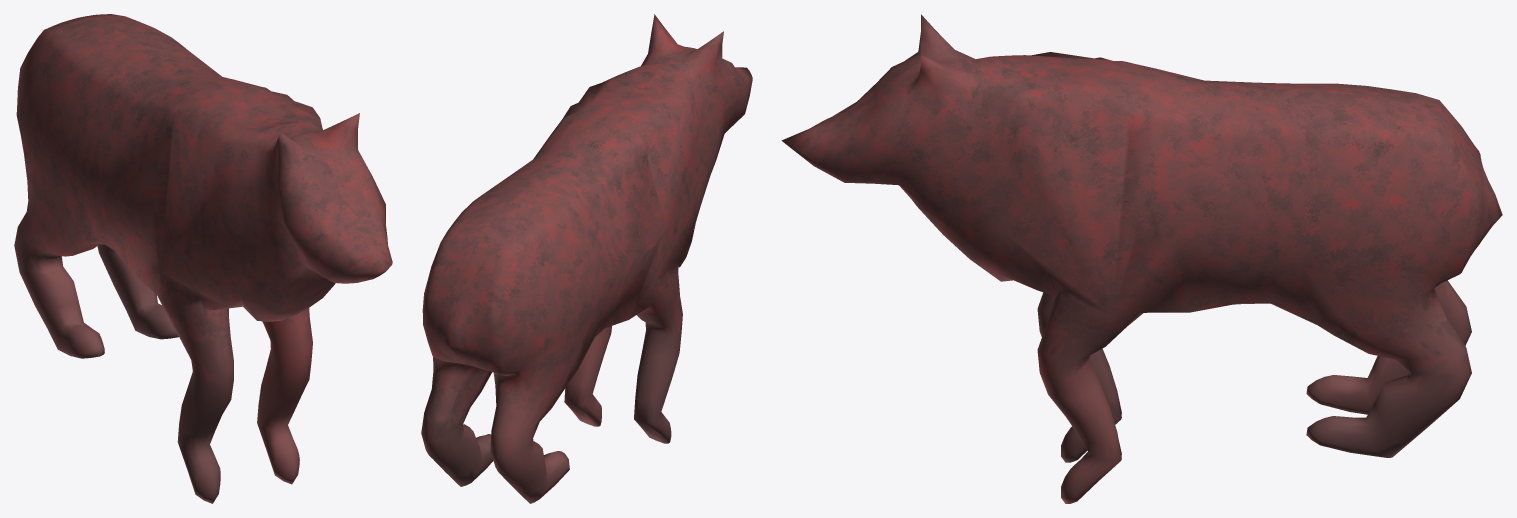
The model's file is piesblend_000033.obj.
The picture shows the model from 3 angles, left to right: view 1: azimuth 30°, elevation 25°; view 2: azimuth 150°, elevation 25°; view 3: azimuth 270°, elevation 25°; orthographic projection. The views are drawn at different scales.
Parts seen in each view (by area): view 1: Cube; view 2: Cube; view 3: Cube.
Part boxes in pixels (left/top/right/bottom): Cube: left=14, top=14, right=392, bottom=503; Cube: left=421, top=14, right=752, bottom=503; Cube: left=781, top=14, right=1502, bottom=503.
Bounding box in the file's own units: 2.55 × 6.37 × 9.28.
1 material, 1 textured.
